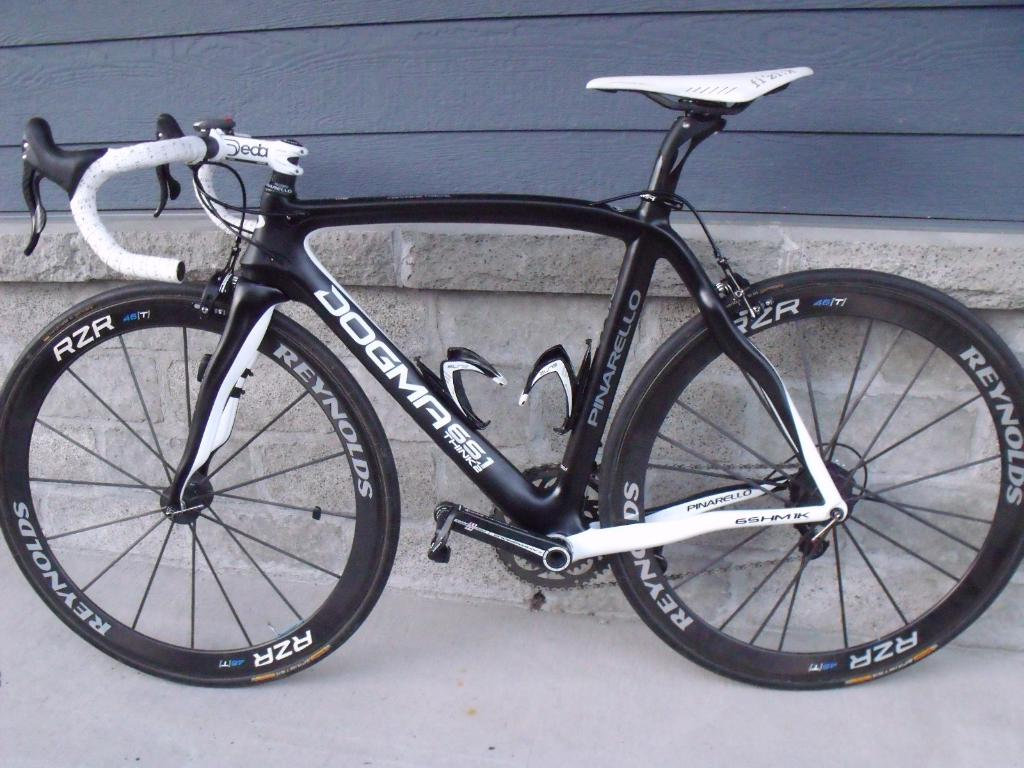Bike: (32, 80, 977, 714)
